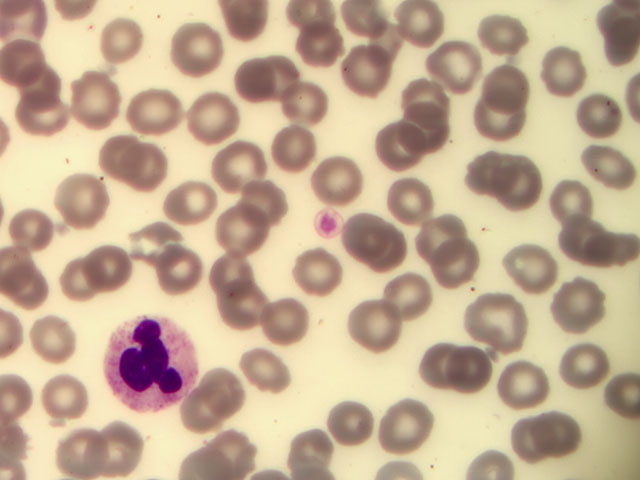RBC: (93, 17, 143, 68), (72, 76, 122, 127), (19, 95, 69, 146), (129, 85, 179, 136), (169, 25, 219, 76), (223, 56, 273, 107), (253, 46, 303, 97), (279, 77, 329, 128), (185, 94, 235, 145), (126, 145, 176, 196), (103, 131, 153, 182), (56, 179, 106, 230), (11, 204, 61, 255), (52, 259, 102, 310), (82, 239, 132, 290), (127, 216, 177, 267), (150, 239, 200, 290), (165, 183, 215, 234), (216, 134, 266, 185), (235, 174, 285, 225), (213, 208, 263, 259), (206, 246, 256, 297), (213, 276, 263, 327), (257, 292, 307, 343), (295, 249, 345, 300), (341, 208, 391, 259), (366, 228, 416, 279), (316, 159, 366, 210), (267, 125, 317, 176), (336, 48, 386, 99), (297, 23, 347, 74), (434, 41, 484, 92), (482, 6, 532, 57), (540, 47, 590, 98), (574, 91, 624, 142), (586, 135, 636, 186), (549, 173, 599, 224), (549, 211, 599, 262), (580, 218, 630, 269), (503, 243, 553, 294), (499, 159, 549, 210), (457, 146, 507, 197), (466, 98, 516, 149), (486, 56, 536, 107), (405, 107, 455, 158), (380, 121, 430, 172), (404, 72, 454, 123), (388, 172, 438, 223), (420, 211, 470, 262), (433, 233, 483, 284), (549, 276, 599, 327), (473, 293, 523, 344), (384, 269, 434, 320), (350, 300, 400, 351), (422, 339, 472, 390), (451, 339, 501, 390), (499, 359, 549, 410), (340, 1, 390, 51), (398, 1, 448, 51), (1, 39, 50, 90), (562, 342, 607, 389), (540, 411, 585, 458), (506, 415, 551, 462), (387, 404, 432, 451), (326, 398, 371, 445), (287, 430, 332, 477), (210, 431, 255, 478), (177, 395, 222, 442), (195, 368, 240, 415), (241, 348, 286, 395), (43, 371, 88, 418), (33, 315, 78, 362), (55, 427, 100, 474), (100, 423, 145, 470), (1, 1, 45, 47), (310, 204, 345, 239)
WBC: (99, 315, 200, 410)
